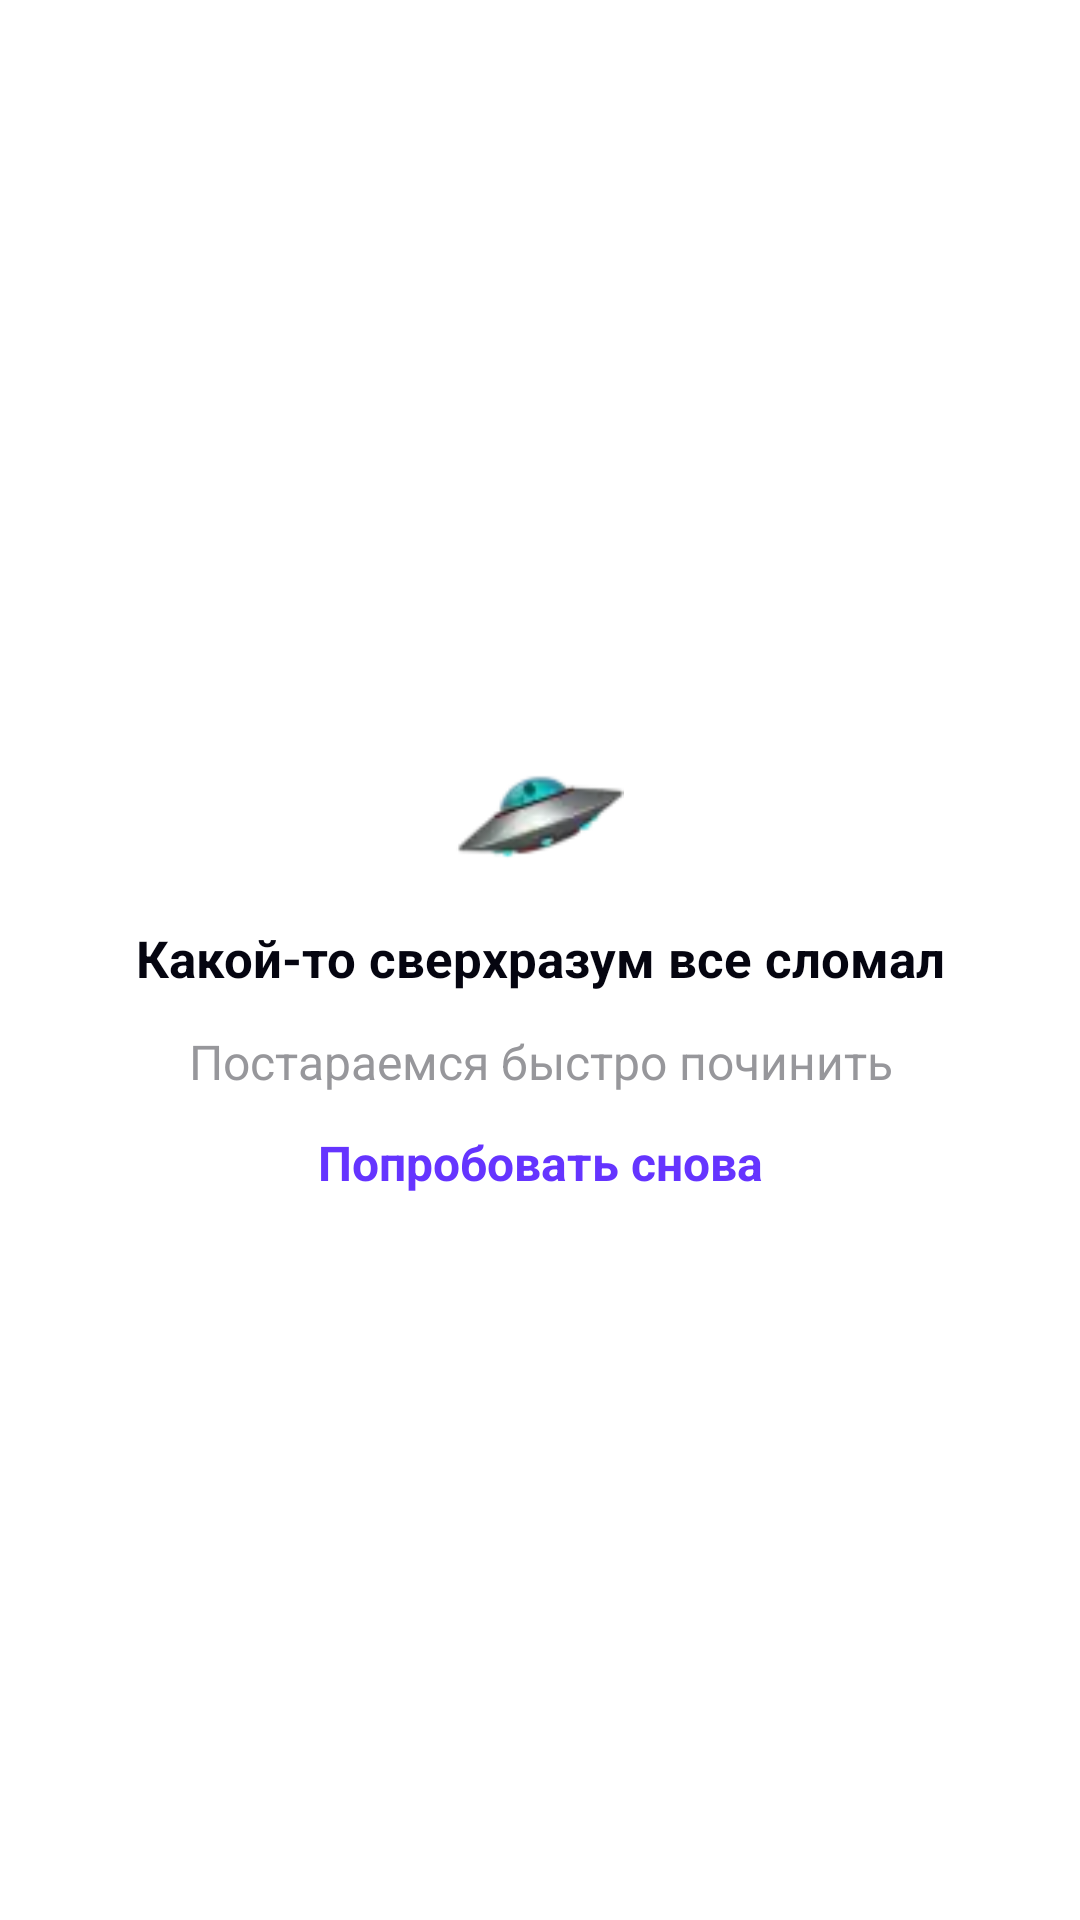

Icon click points for this 1080px×1920px phone screenshot, format point (x, y):
Flying saucer image: point (541, 816)
